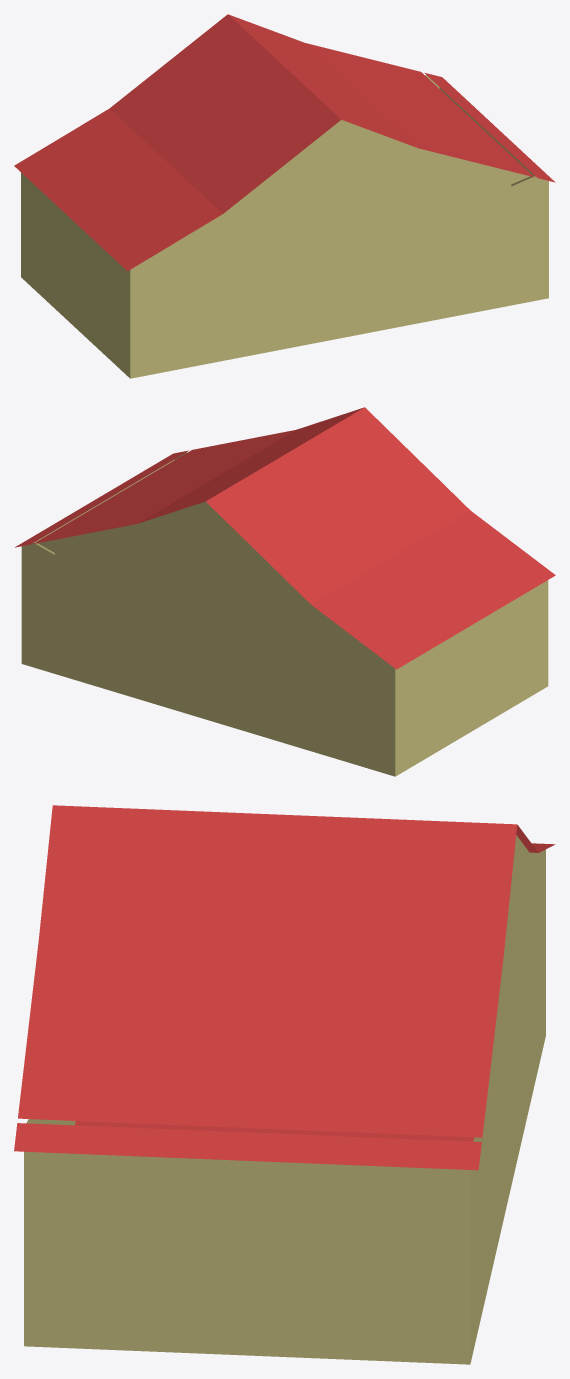
3 renders of one model, top to bottom at view 1: azimuth 30°, elevation 25°; view 2: azimuth 150°, elevation 25°; view 3: azimuth 270°, elevation 25°, orthographic. The views are drawn at different scales.
Size of the model in its own units: 22.9 by 14.74 by 11.28.
